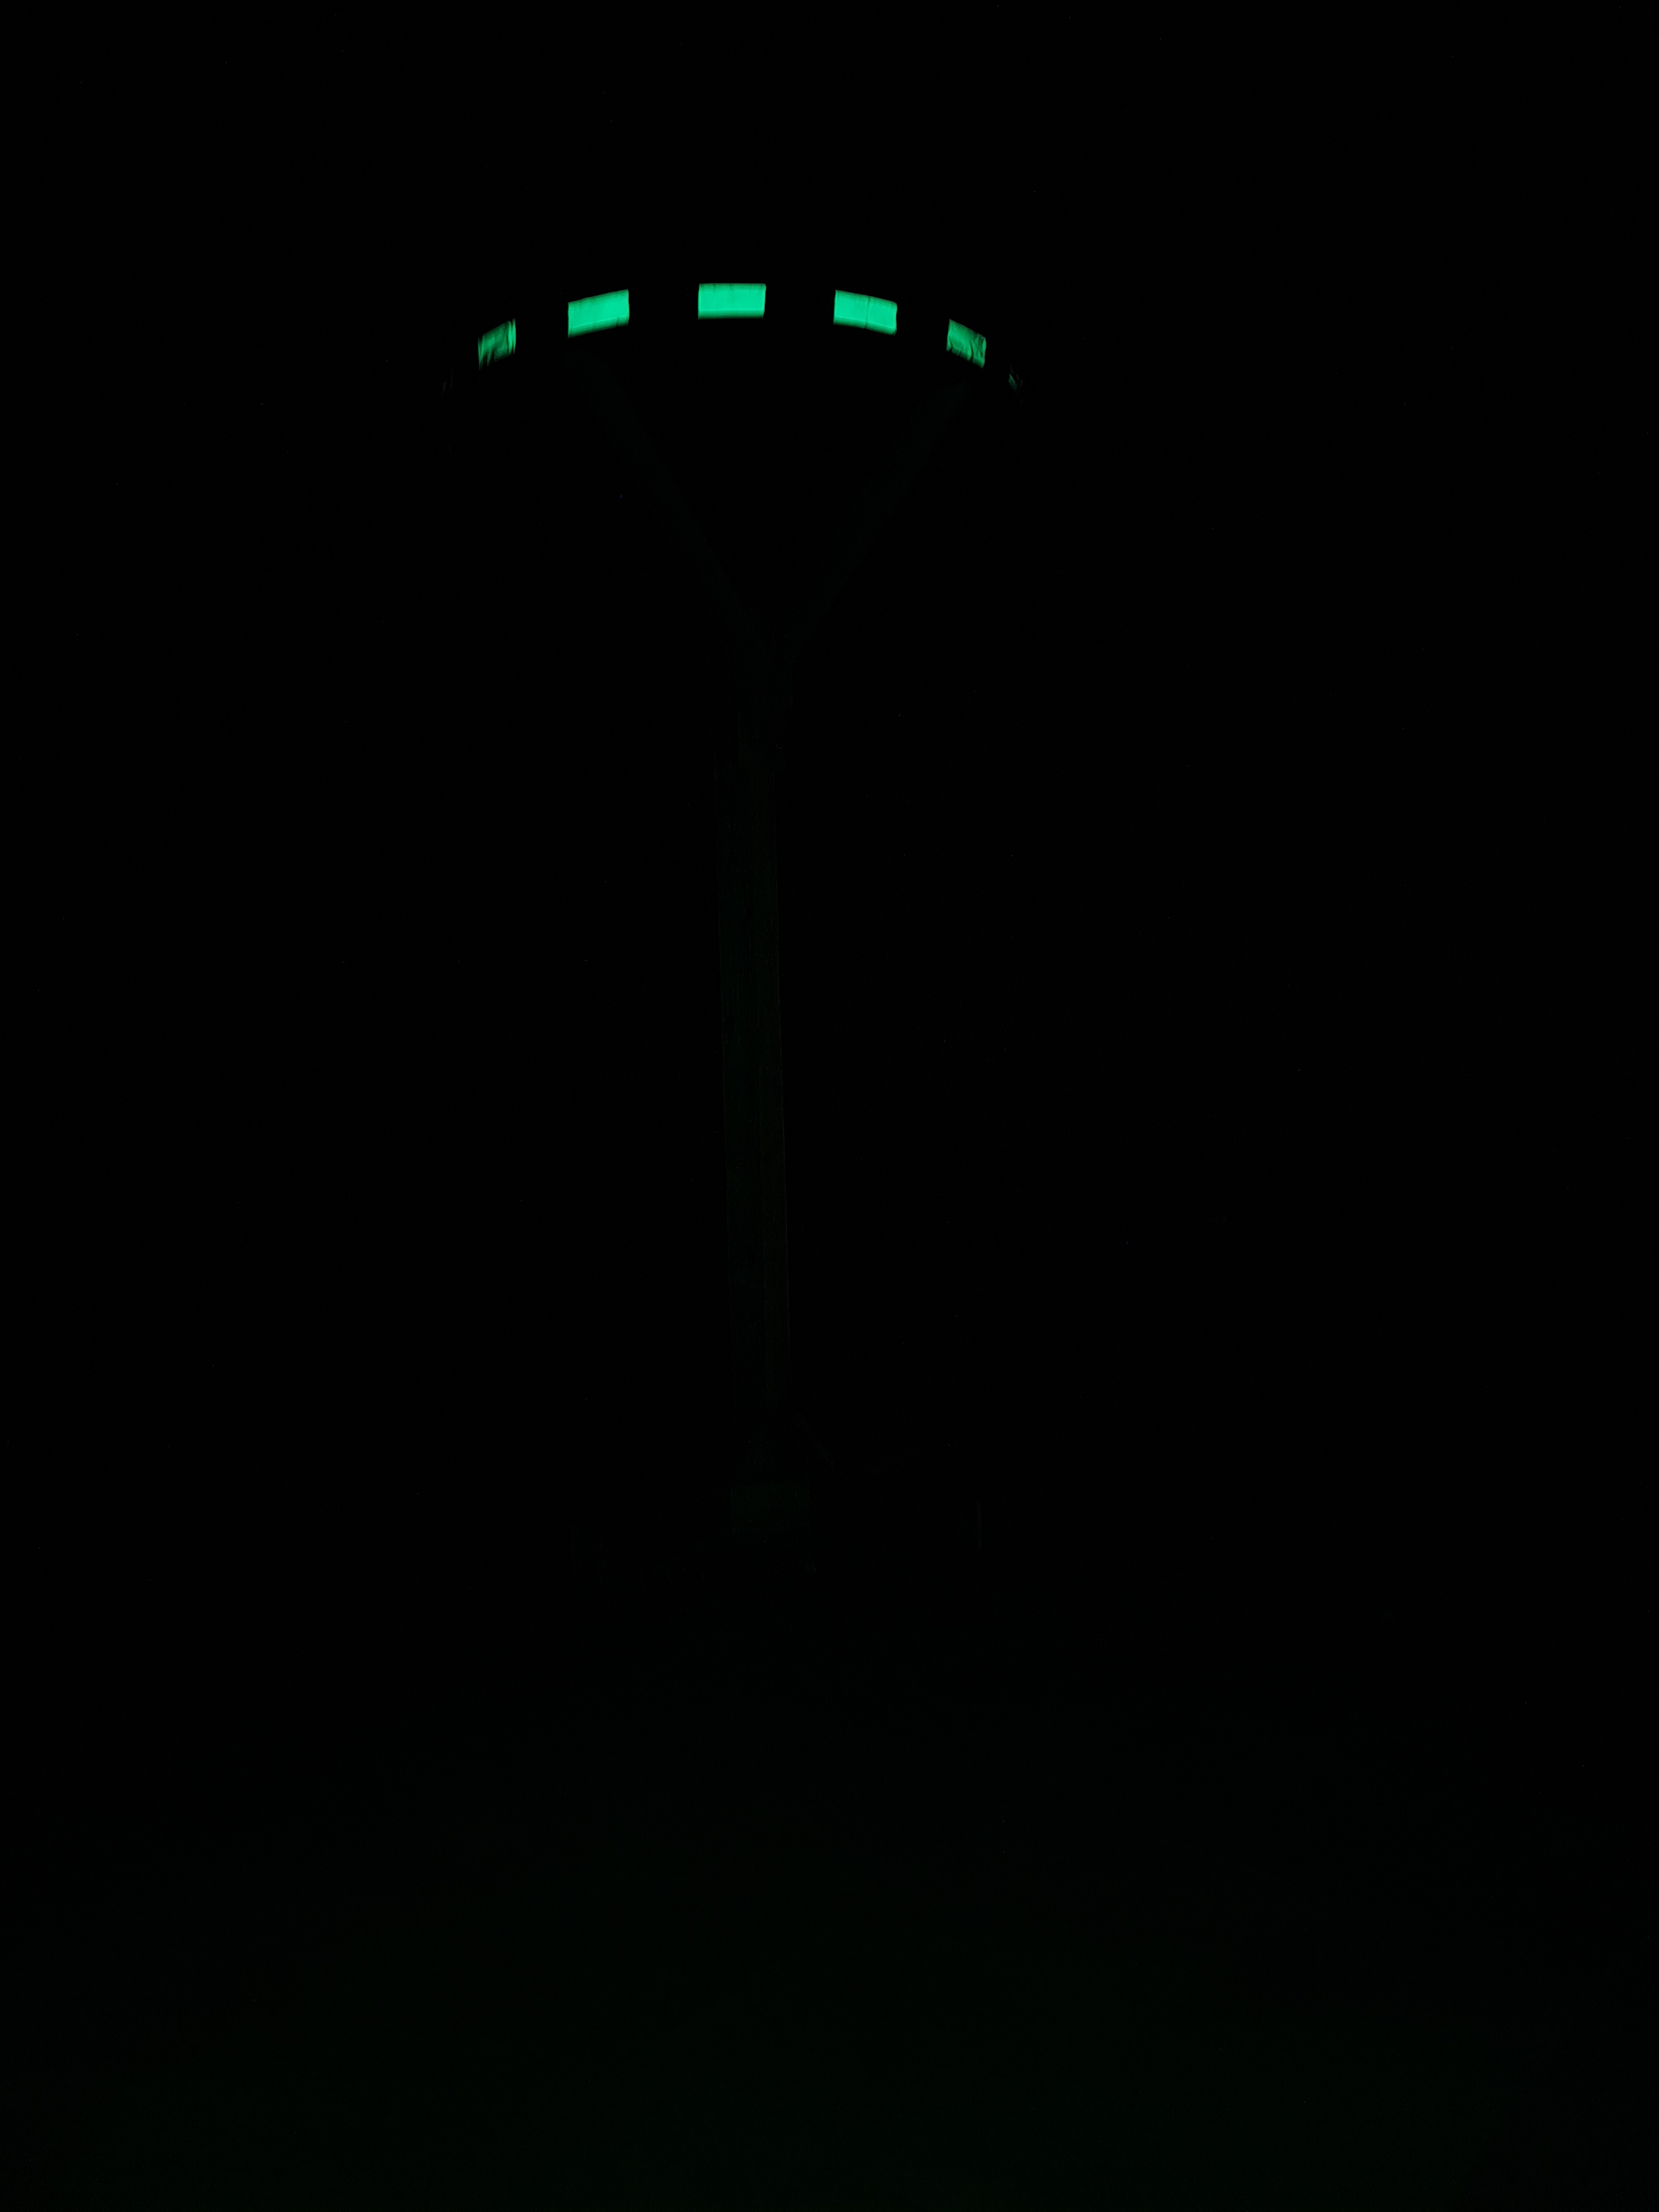hoop: (479, 277, 990, 371)
